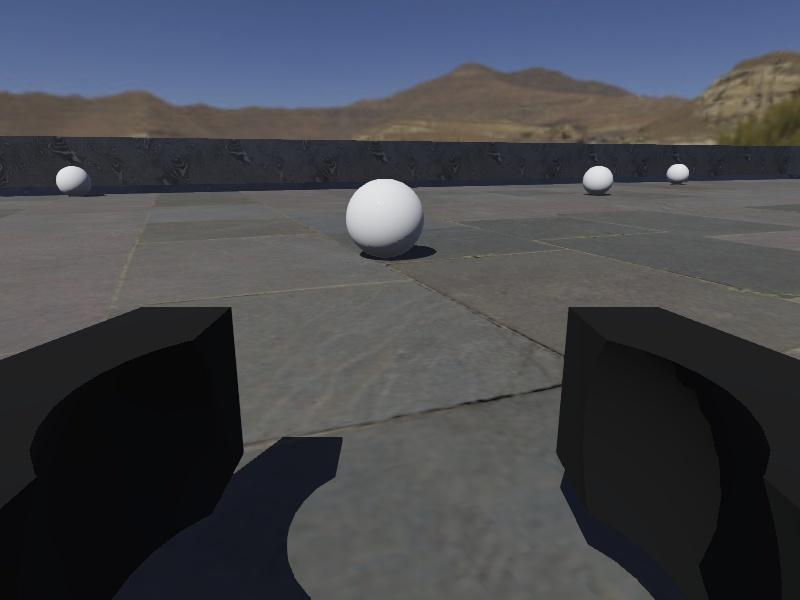white ball: (344, 176, 426, 260), (55, 163, 93, 200), (582, 164, 615, 195), (665, 162, 692, 185)
